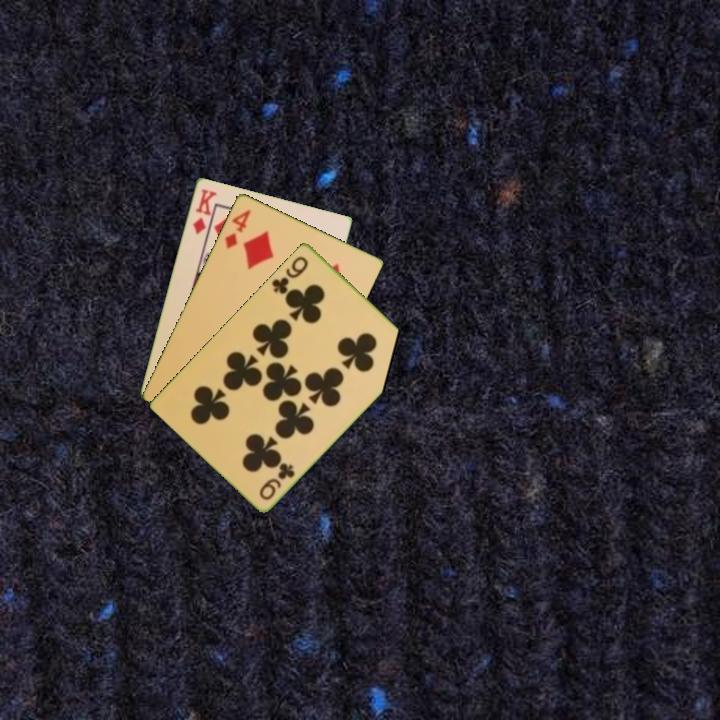4d: (221, 206, 253, 252)
9c: (268, 252, 311, 297), (255, 459, 298, 503)
Kd: (189, 185, 219, 237)
